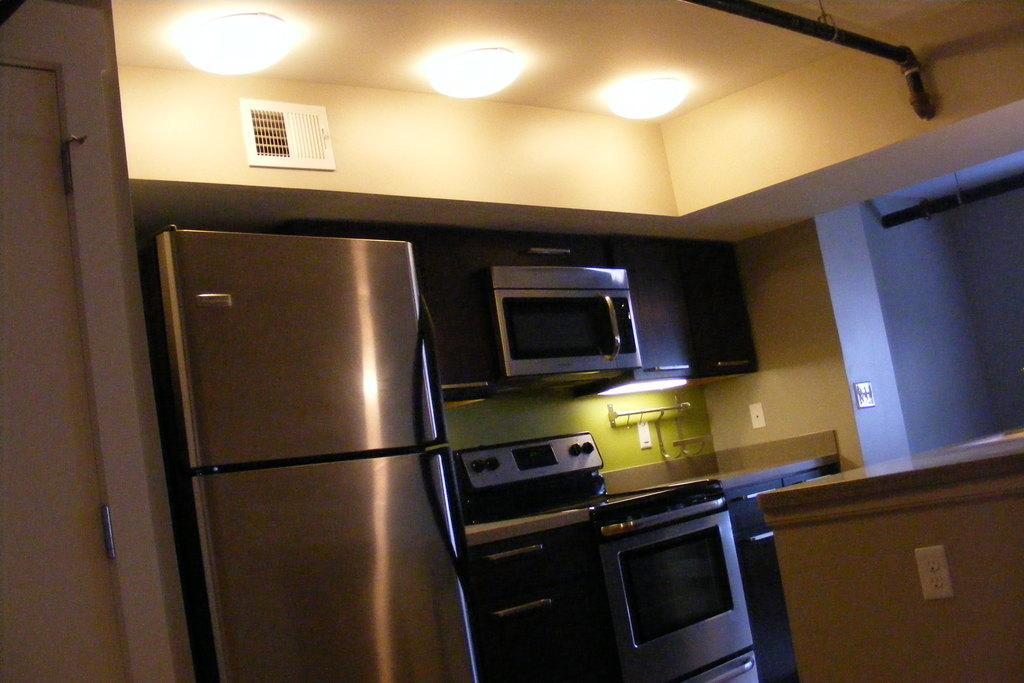cabinet_door: (426, 239, 492, 401), (484, 592, 602, 672), (631, 256, 684, 378), (686, 254, 742, 367), (478, 533, 584, 578), (486, 232, 608, 264)
handle: (406, 297, 452, 434), (427, 445, 473, 559), (598, 291, 632, 369), (481, 538, 553, 570), (492, 599, 558, 628), (520, 242, 578, 261), (446, 376, 488, 400), (654, 364, 694, 378), (712, 358, 750, 370)
